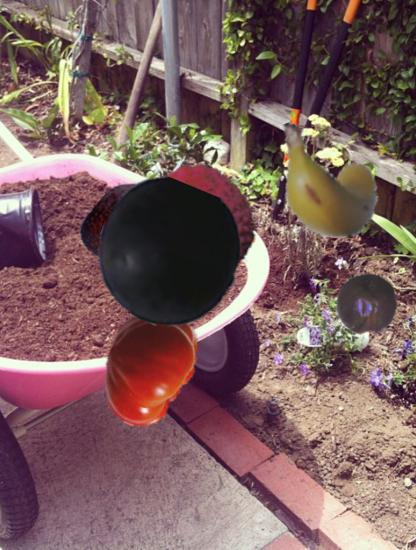Banana: (262, 112, 393, 243)
Grape: (97, 182, 241, 326)
Lychee: (137, 159, 259, 281)
Passion: (334, 273, 399, 338)
Salak: (81, 181, 168, 268)
Tomato: (88, 305, 211, 428)
